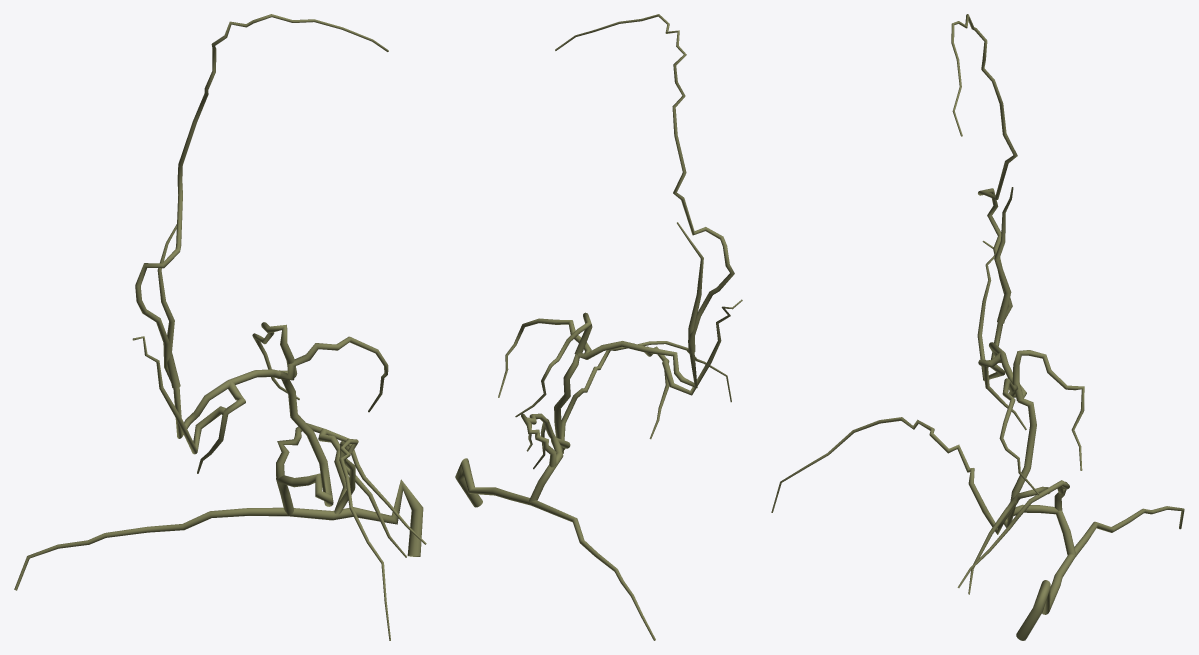
Rendered from Industrial_Ruin_Vine2.fbx.
3 renders of one model, left to right at view 1: azimuth 30°, elevation 25°; view 2: azimuth 150°, elevation 25°; view 3: azimuth 270°, elevation 25°, orthographic. The views are drawn at different scales.
Parts seen in each view (by area): view 1: IVY_Curve.003; view 2: IVY_Curve.003; view 3: IVY_Curve.003.
Part boxes in pixels (x1,y1,x2,y2): IVY_Curve.003: (14, 14, 426, 640); IVY_Curve.003: (455, 14, 742, 640); IVY_Curve.003: (771, 14, 1184, 640).
Bounding box in the file's own units: 300 × 562 × 377.
